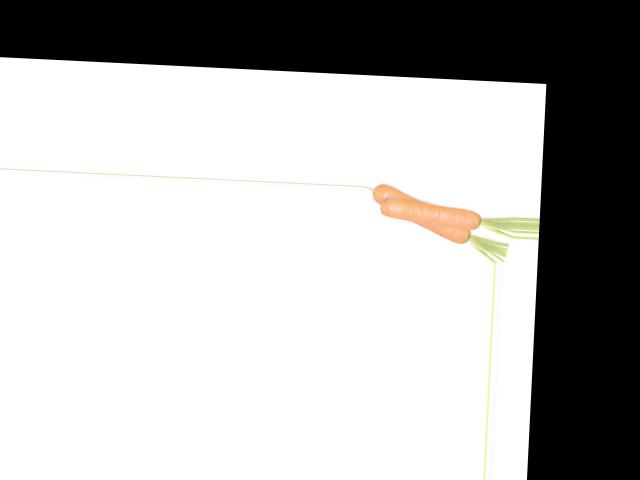carrot: (362, 185, 481, 245)
